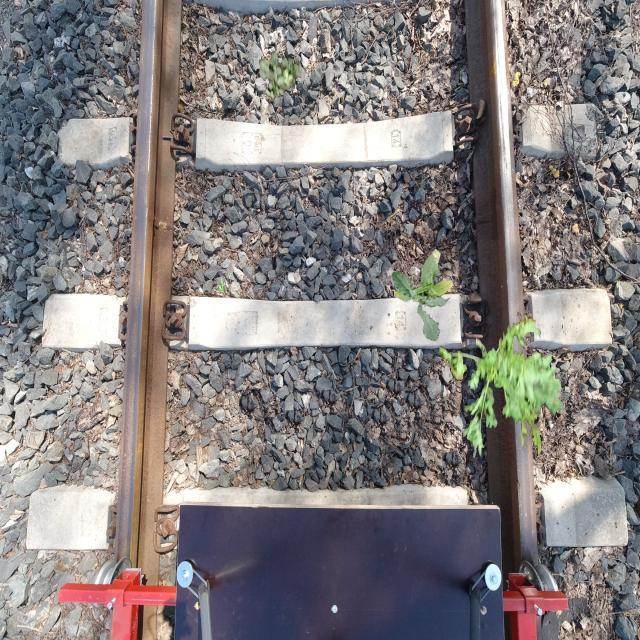Plant: (439, 312, 564, 459), (391, 249, 454, 342), (258, 51, 302, 101), (214, 277, 228, 292)
